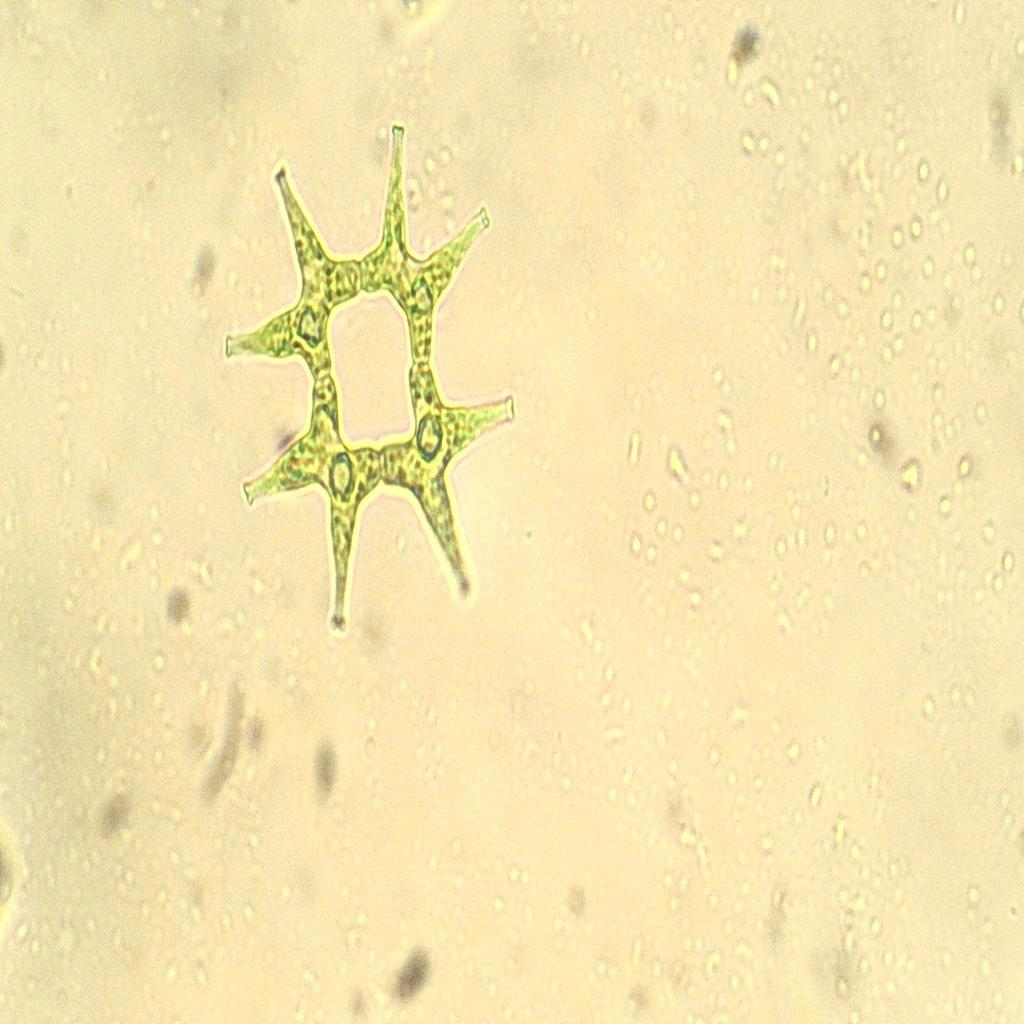Pediastrum_75O: (210, 98, 538, 655)
